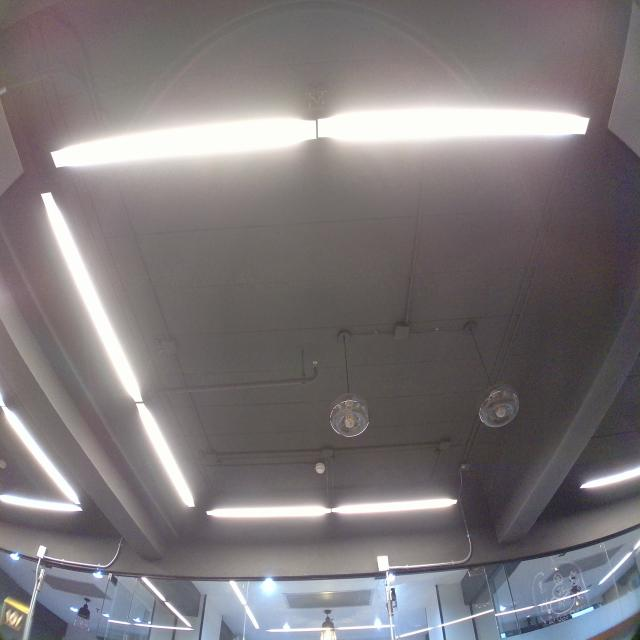lamp2_on: (33, 188, 203, 513), (43, 96, 601, 184), (203, 493, 464, 523)
